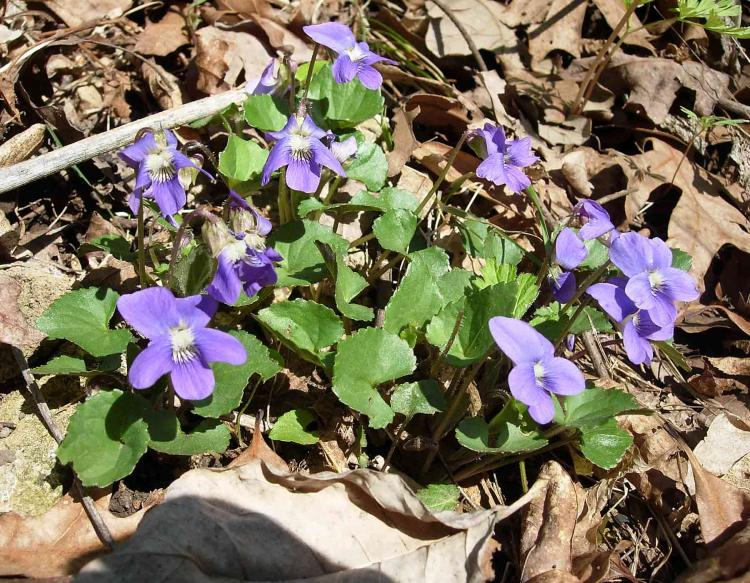violet: (98, 274, 262, 402), (482, 309, 602, 427), (124, 120, 205, 223), (201, 212, 284, 309), (466, 126, 557, 213), (608, 226, 700, 306), (311, 22, 403, 100), (259, 120, 340, 190)
